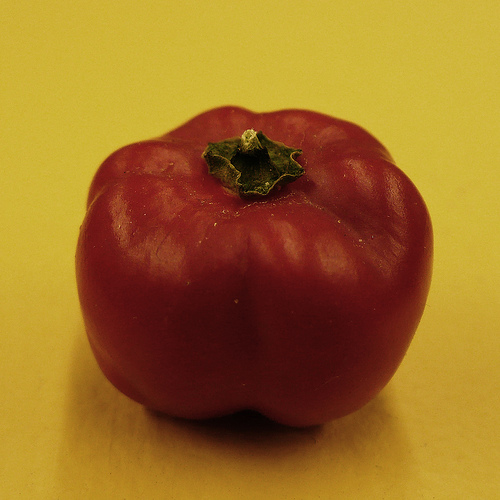capsicum: (73, 106, 432, 426)
